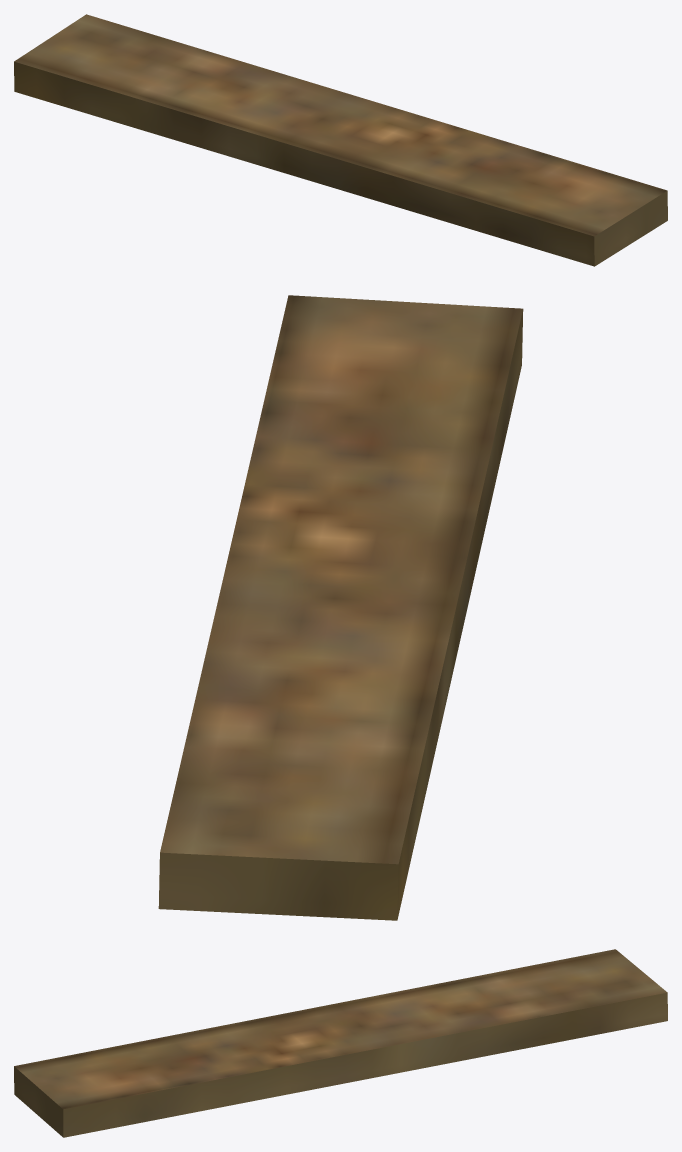
Rendered from 1aa9f511-8d70-4647-94bb-6369bcfb7081.glb.
3 renders of one model, top to bottom at view 1: azimuth 30°, elevation 25°; view 2: azimuth 150°, elevation 25°; view 3: azimuth 270°, elevation 25°, orthographic. The views are drawn at different scales.
Visible parts, largest first — view 1: WoodDecor01; view 2: WoodDecor01; view 3: WoodDecor01.
Boxes of the visible parts, x1,y1,x2,y2 form: WoodDecor01: (14, 14, 667, 266); WoodDecor01: (158, 295, 523, 920); WoodDecor01: (14, 949, 667, 1137).
Size of what is drawn, in the model's own units: 0.6144 by 0.0548 by 1.05.
1 material, 1 textured.
